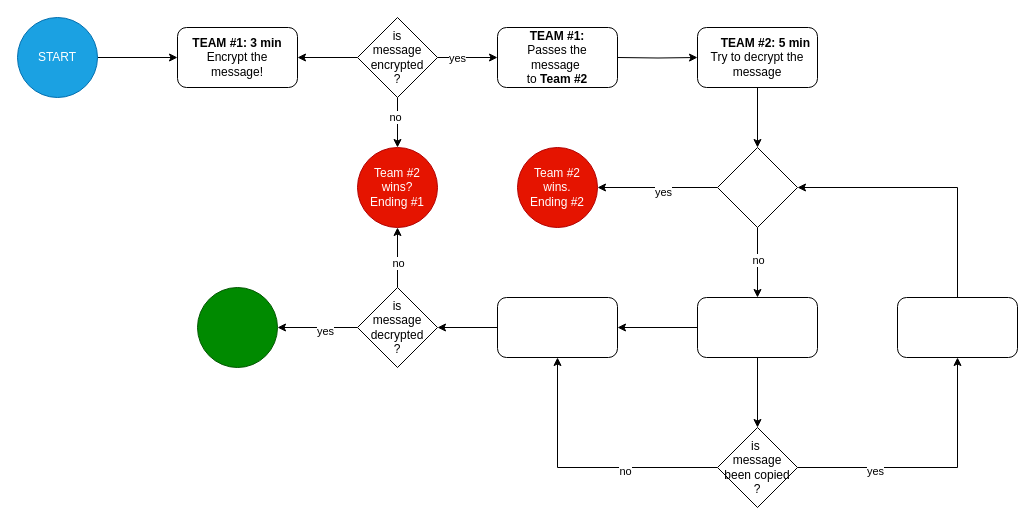
The diagram is 1035 pixels wide and 525 high, and some of its shapes have lost their labels. The centre of each missing label's shape, as x and y in pixels:
"is message retrieved ?" goes at point (757, 187).
"Team #1 and Team #3 wins. Ending #3" goes at point (237, 327).
"TEAM #2: +5 min can continue guessing" goes at point (957, 327).
"TEAM #2: Passes the message to Team #3" goes at point (757, 327).
"TEAM #3: 10 min Decrypt the message!" goes at point (557, 327).
